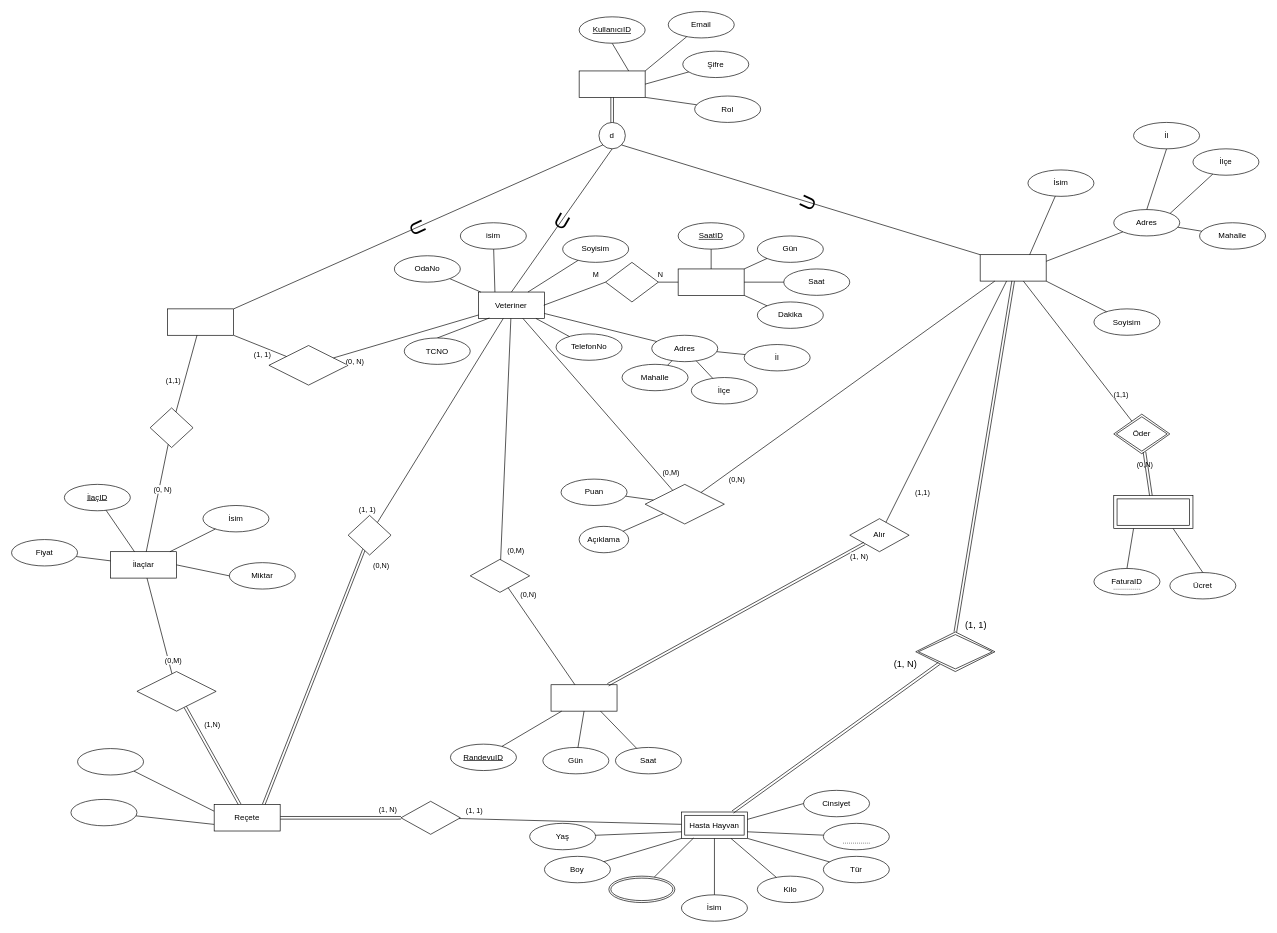
Some shapes in this 1277 by 933 pixel diagram are drawn without their labels. The box of each missing label's shape, as (x1, y1, x2, y2) in pixels:
Admin: (167, 308, 234, 335)
Ekler: (268, 345, 348, 385)
HastaID: (823, 823, 889, 850)
Hayvan Sahibi: (980, 254, 1046, 281)
İlaç Alır: (149, 407, 193, 448)
İçerir: (136, 671, 216, 711)
Kullanıcı: (578, 70, 645, 97)
Muayene Faturası: (1113, 495, 1193, 529)
Randevu: (550, 684, 617, 711)
Renk: (608, 875, 675, 903)
Review Verir: (644, 484, 724, 524)
ReçeteID: (77, 748, 144, 775)
Saatler: (677, 268, 744, 295)
Sahip: (915, 631, 995, 672)
Tarih: (70, 799, 137, 826)
Uygundur: (605, 262, 658, 302)
Var: (400, 801, 460, 834)
Verir: (470, 559, 530, 592)
Yazar: (347, 515, 391, 555)
